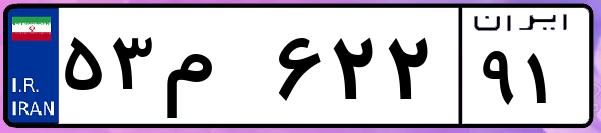1: (525, 38, 570, 115)
2: (385, 28, 445, 110), (330, 28, 385, 110)
3: (110, 28, 158, 98)
5: (57, 26, 110, 100)
6: (270, 28, 330, 110)
9: (475, 38, 525, 113)
م: (158, 20, 270, 120)
